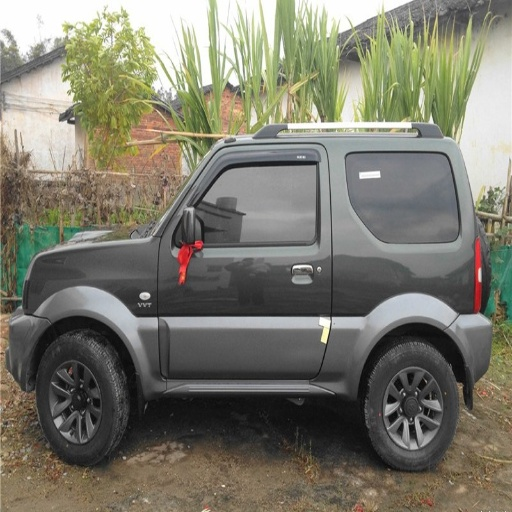back_glass: (402, 159, 450, 202)
trunk: (318, 247, 486, 392)
